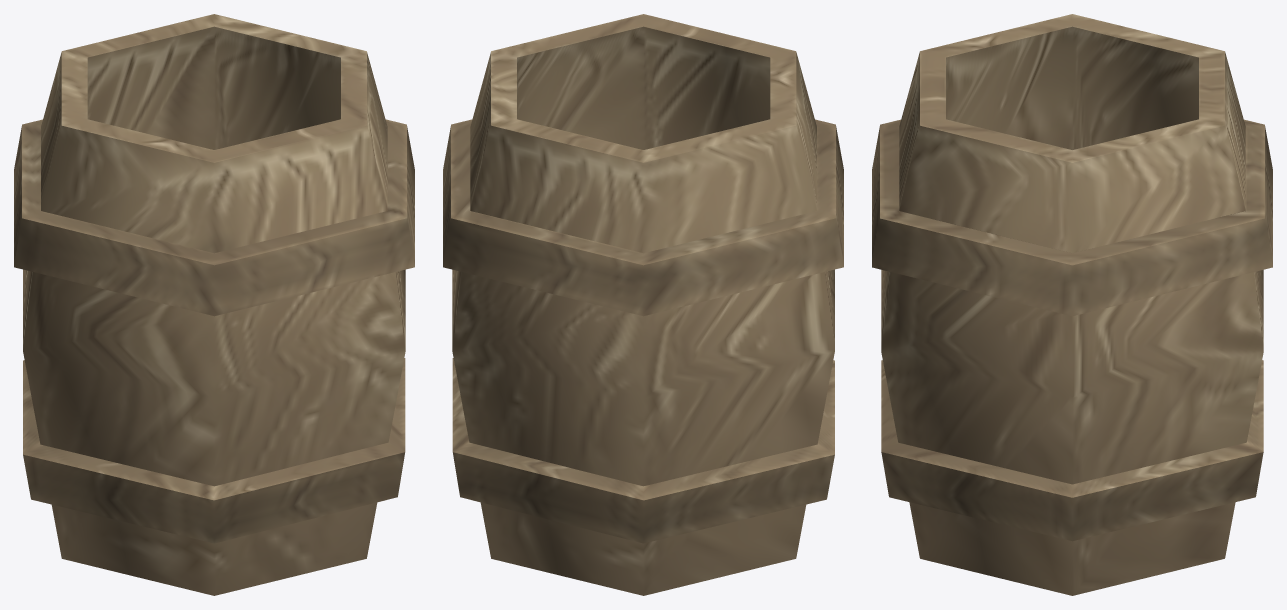
File: Egypt_Village_Props_02.FBX
3 renders of one model, left to right at view 1: azimuth 30°, elevation 25°; view 2: azimuth 150°, elevation 25°; view 3: azimuth 270°, elevation 25°, orthographic.
Parts seen in each view (by area): view 1: Egypt_Village_Props_02; view 2: Egypt_Village_Props_02; view 3: Egypt_Village_Props_02.
Part boxes in pixels (left/top/right/bottom): Egypt_Village_Props_02: left=14, top=14, right=414, bottom=595; Egypt_Village_Props_02: left=443, top=14, right=843, bottom=595; Egypt_Village_Props_02: left=872, top=14, right=1272, bottom=595.
Bounding box in the file's own units: 48.17 × 49.73 × 41.72.
